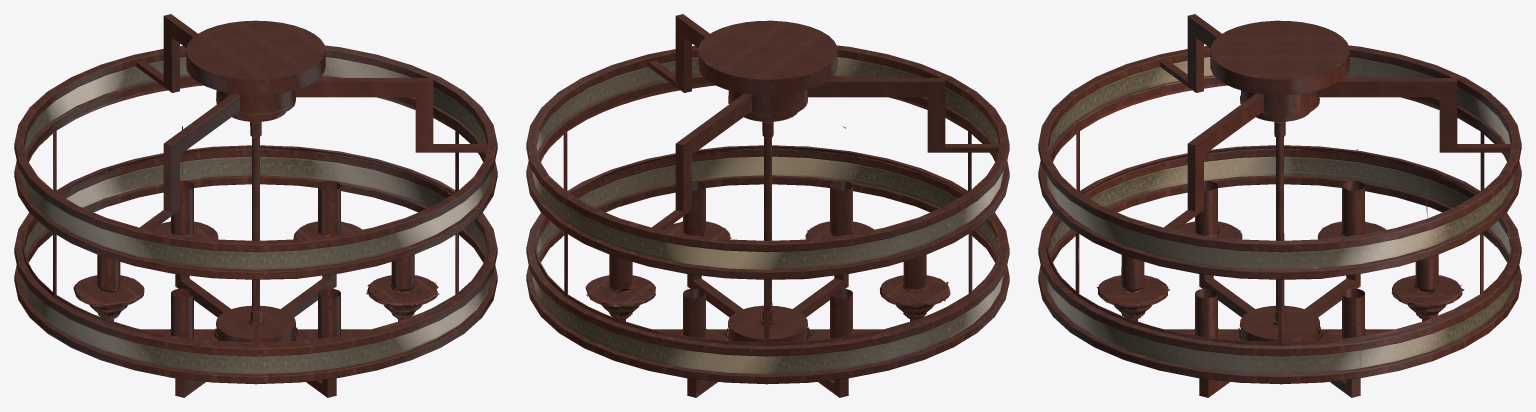
The model's file is raw_model.obj.
3 views of the same model, side by side, from view 1: azimuth 30°, elevation 25°; view 2: azimuth 150°, elevation 25°; view 3: azimuth 270°, elevation 25° (orthographic).
Parts seen in each view (by area): view 1: solid_001, solid_003; view 2: solid_001, solid_003; view 3: solid_001, solid_003.
Boxes of the visible parts, x1,y1,x2,y2 form: solid_001: (14,14,497,397); solid_003: (20,57,491,374); solid_001: (526,14,1009,397); solid_003: (532,57,1003,374); solid_001: (1038,14,1521,397); solid_003: (1044,57,1515,374).
Size of the model in its own units: 0.5539 by 0.3895 by 0.5539.
Materials: 1 (1 with a texture image).
